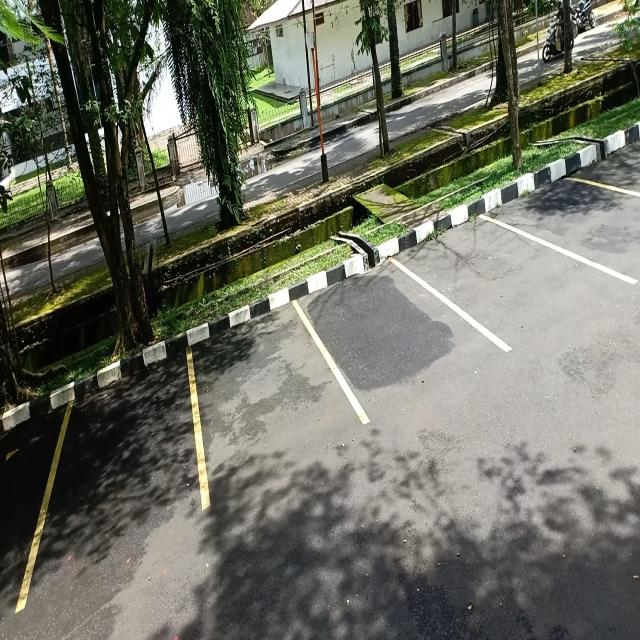empty: (49, 353, 199, 553), (196, 302, 328, 503), (323, 256, 458, 424), (438, 215, 558, 352), (552, 178, 640, 277)
